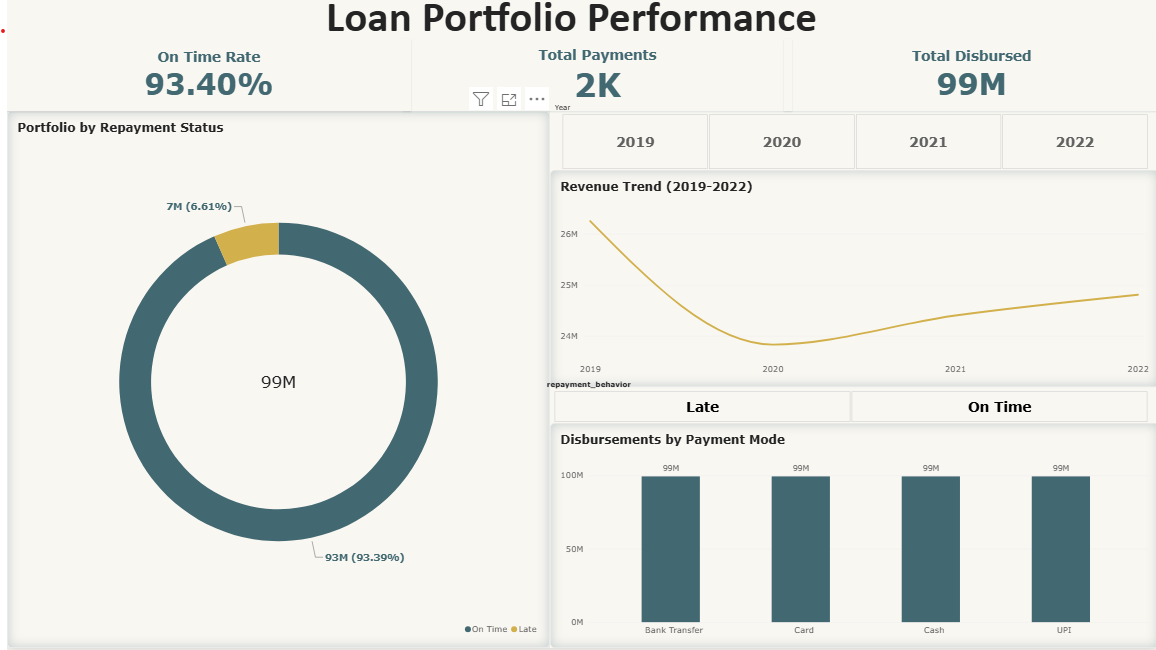

This screenshot's page, from the dashboard's own definition file:
{"tool":"powerbi","page":{"name":"Page 1","canvas":[1920,1080],"ordinal":0},"visuals":[{"type":"donutChart","title":"Portfolio by Repayment Status","fields":{"Category":["job_fCl_XflSEEPY0cITBaLnfyYgMvtf.repayment_behavior"],"Y":["Sum(job_fCl_XflSEEPY0cITBaLnfyYgMvtf.total_amount)"]},"box":[0,185,905,895],"z":0},{"type":"clusteredColumnChart","title":"Disbursements by Payment Mode","fields":{"Category":["Payment_Mode.Payment_Mode"],"Y":["Sum(job_fCl_XflSEEPY0cITBaLnfyYgMvtf.total_amount)"]},"box":[905,705,1015,375],"z":1000},{"type":"lineChart","title":"Revenue Trend (2019-2022)","fields":{"Category":["Yearly_Revenue.Year"],"Y":["Sum(Yearly_Revenue.Revenue)"]},"box":[905,283.3,1015,361.7],"z":2000},{"type":"cardVisual","fields":{"Data":["Sum(job_fCl_XflSEEPY0cITBaLnfyYgMvtf.total_amount)"]},"box":[1295,65,625,120],"z":3000},{"type":"cardVisual","fields":{"Data":["Sum(job_fCl_XflSEEPY0cITBaLnfyYgMvtf.payments_count)"]},"box":[660,65,648.3,120],"z":4000},{"type":"cardVisual","fields":{"Data":["Sum(On Time Rate.Repayment_Rate)"]},"box":[0,65,673.5,120.4],"z":5000},{"type":"slicer","fields":{"Values":["Yearly_Revenue.Year"]},"box":[905,171.7,1015,111.7],"z":6000},{"type":"slicer","fields":{"Values":["job_fCl_XflSEEPY0cITBaLnfyYgMvtf.repayment_behavior"]},"box":[891.7,633.3,1028.3,71.7],"z":7000},{"type":"textbox","box":[16.7,0,1848.3,113.3],"z":8000}]}

Visuals, with their boxes in screenshot pixels (x1, y1, x2, y2), scaled from the page's 1920x1080 canvas onto the 1156x650 screenshot:
"Portfolio by Repayment Status" donutChart: 0,111,545,649
"Disbursements by Payment Mode" clusteredColumnChart: 545,424,1155,649
"Revenue Trend (2019-2022)" lineChart: 545,171,1155,388
cardVisual - Sum(job_fCl_XflSEEPY0cITBaLnfyYgMvtf.total_amount): 780,39,1155,111
cardVisual - Sum(job_fCl_XflSEEPY0cITBaLnfyYgMvtf.payments_count): 397,39,788,111
cardVisual - Sum(On Time Rate.Repayment_Rate): 0,39,406,112
slicer - Yearly_Revenue.Year: 545,103,1155,171
slicer - job_fCl_XflSEEPY0cITBaLnfyYgMvtf.repayment_behavior: 537,381,1155,424
textbox: 10,0,1123,68
